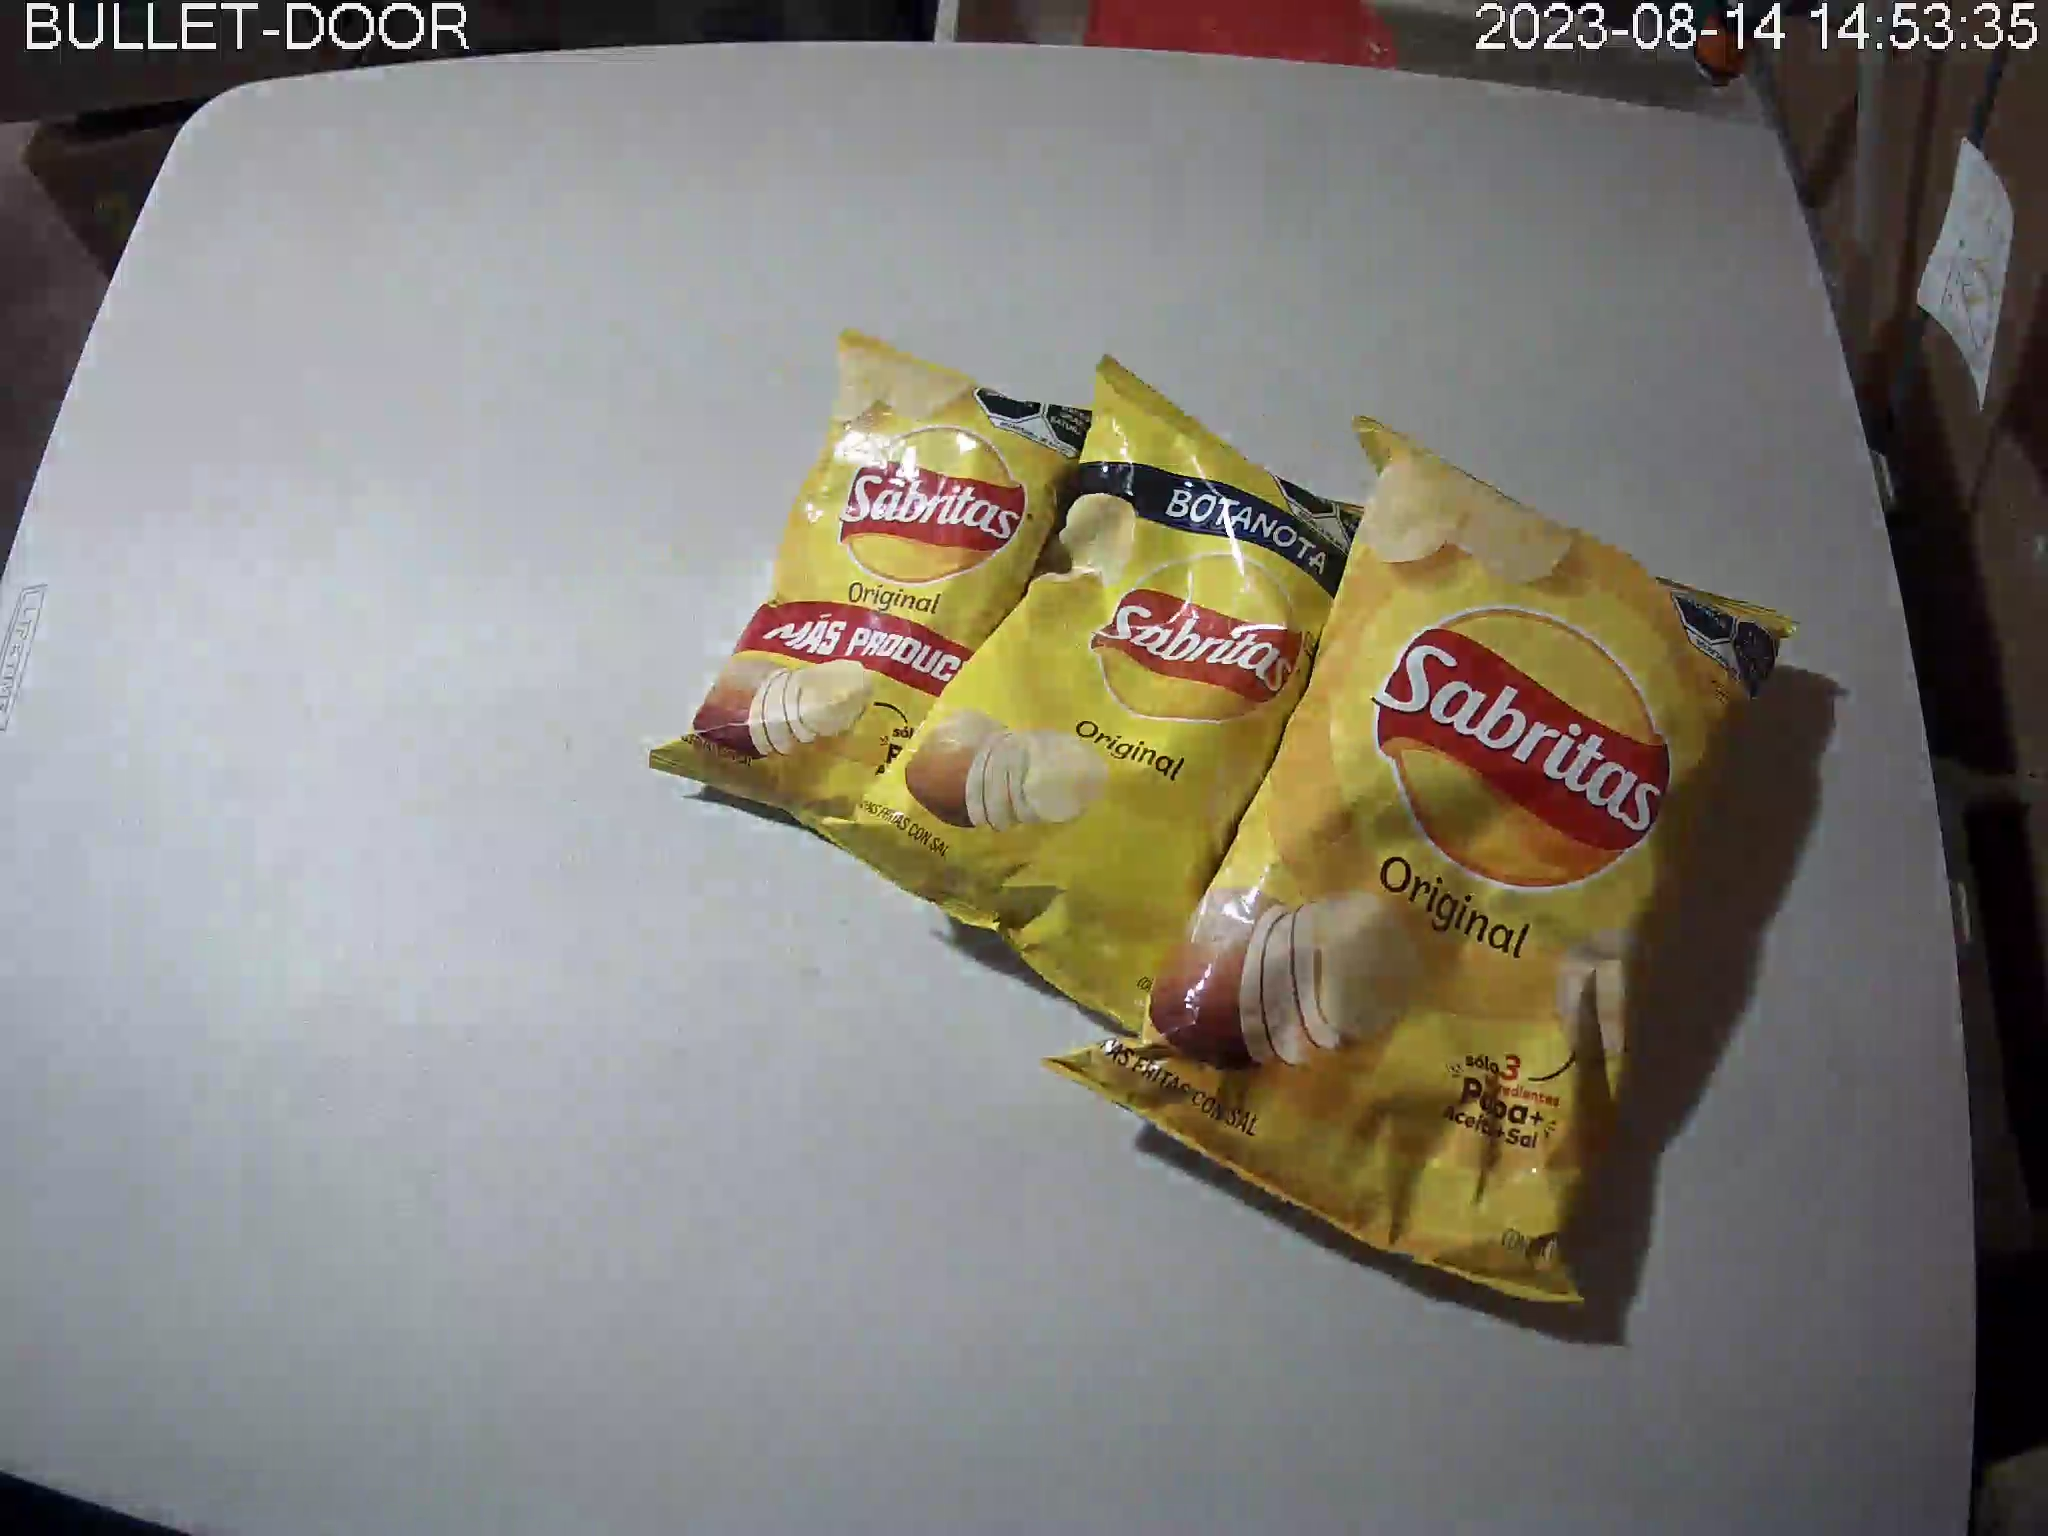Sabritas_160_F: (1042, 415, 1800, 1305)
Sabritas_45_F: (648, 328, 1116, 858)
Sabritas_64_F: (822, 353, 1377, 1039)
